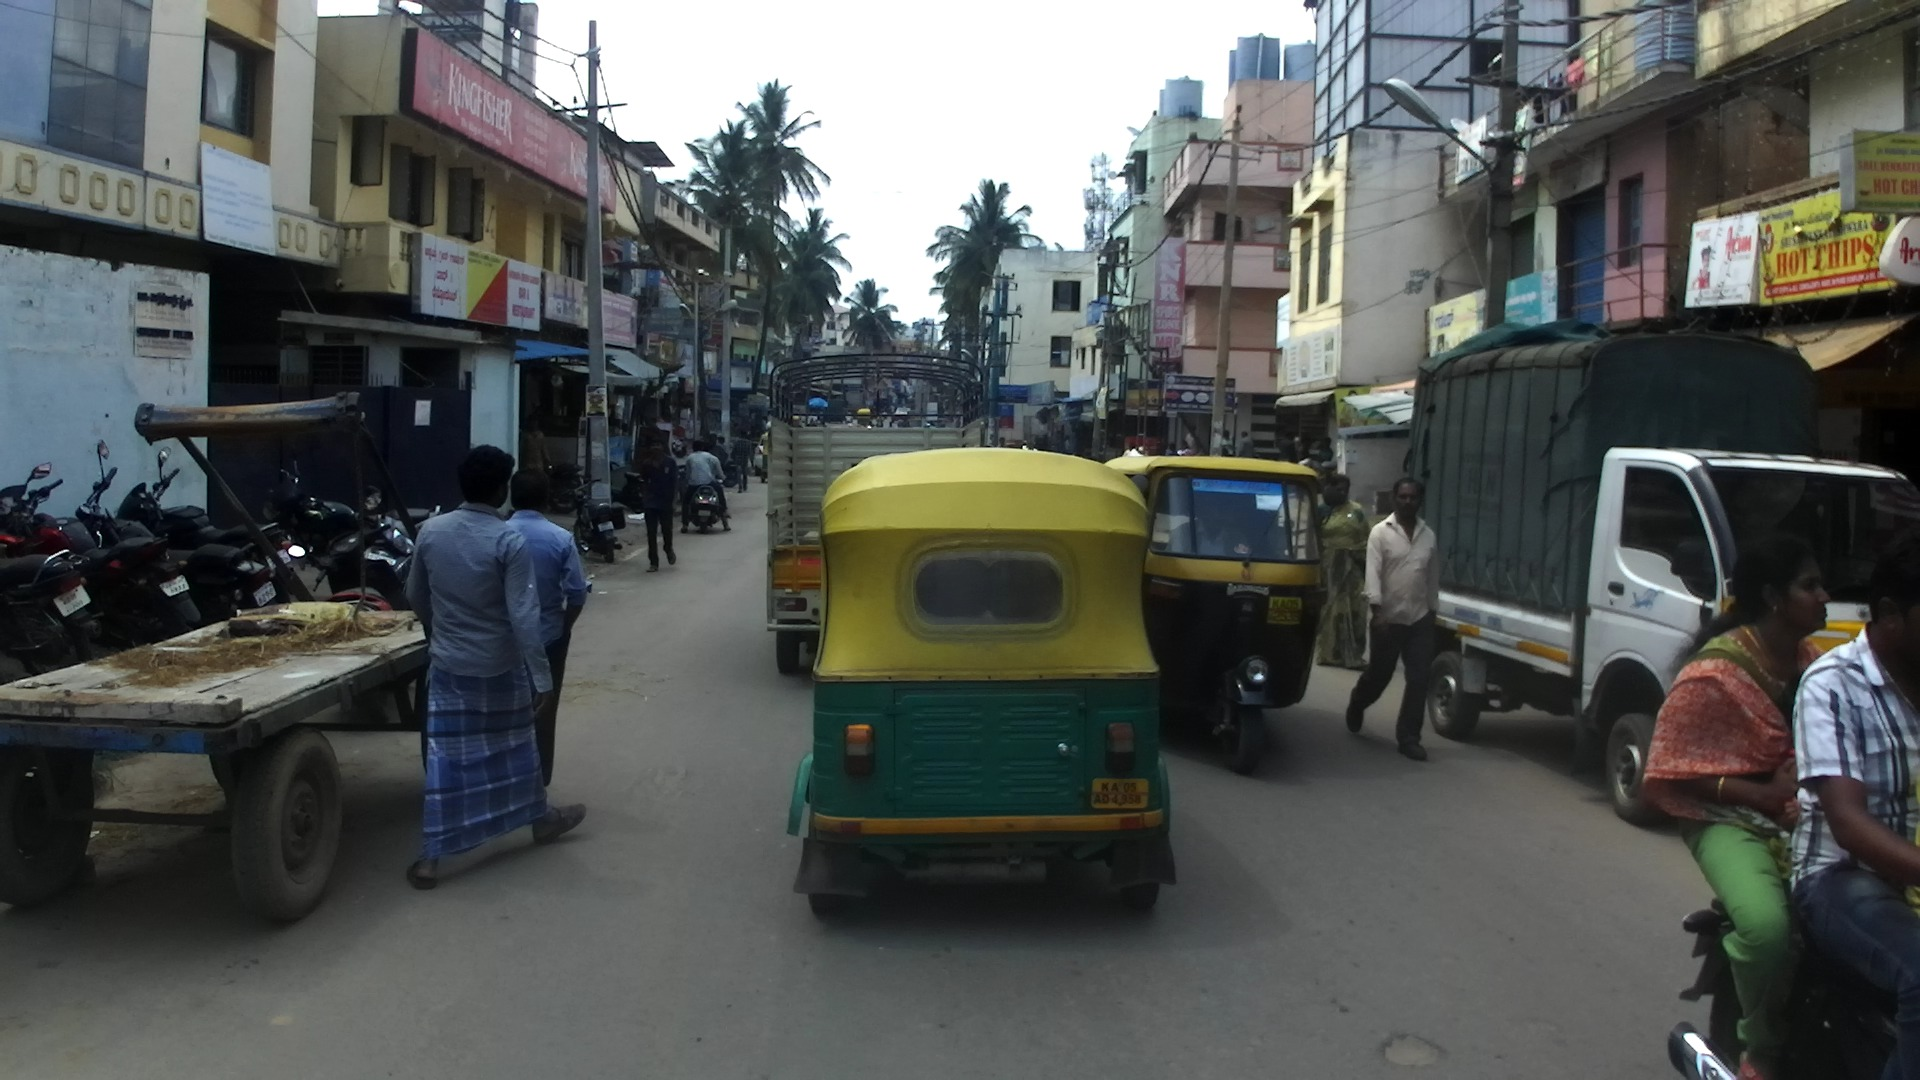autorickshaw: (785, 448, 1178, 931), (1102, 455, 1325, 771)
car: (753, 446, 767, 475)
motorcycle: (1669, 868, 1895, 1078), (76, 442, 268, 659), (1, 463, 206, 661), (119, 440, 290, 629), (259, 458, 416, 619), (1, 527, 90, 676), (349, 482, 450, 559), (563, 475, 630, 564), (680, 469, 732, 533), (615, 466, 682, 513), (540, 460, 589, 514), (717, 460, 738, 489)
person: (405, 443, 589, 891), (482, 463, 592, 789), (1343, 476, 1451, 757), (1313, 472, 1375, 669), (638, 440, 682, 571), (517, 413, 548, 484), (731, 428, 754, 492), (1294, 440, 1325, 479), (699, 429, 720, 469), (761, 422, 774, 482), (1276, 431, 1299, 464), (1317, 437, 1334, 467), (1218, 428, 1236, 457), (1185, 421, 1201, 451), (1238, 430, 1254, 458), (1177, 439, 1197, 456), (715, 433, 729, 450), (1163, 440, 1178, 458), (1063, 433, 1072, 456), (1132, 444, 1146, 458), (998, 437, 1007, 448)
rider: (1641, 536, 1832, 1043), (1790, 564, 1920, 1080), (680, 435, 733, 533), (1122, 445, 1132, 456)
truck: (1402, 320, 1912, 823), (763, 356, 1029, 674)
vehicle fallback: (1, 393, 454, 916)
